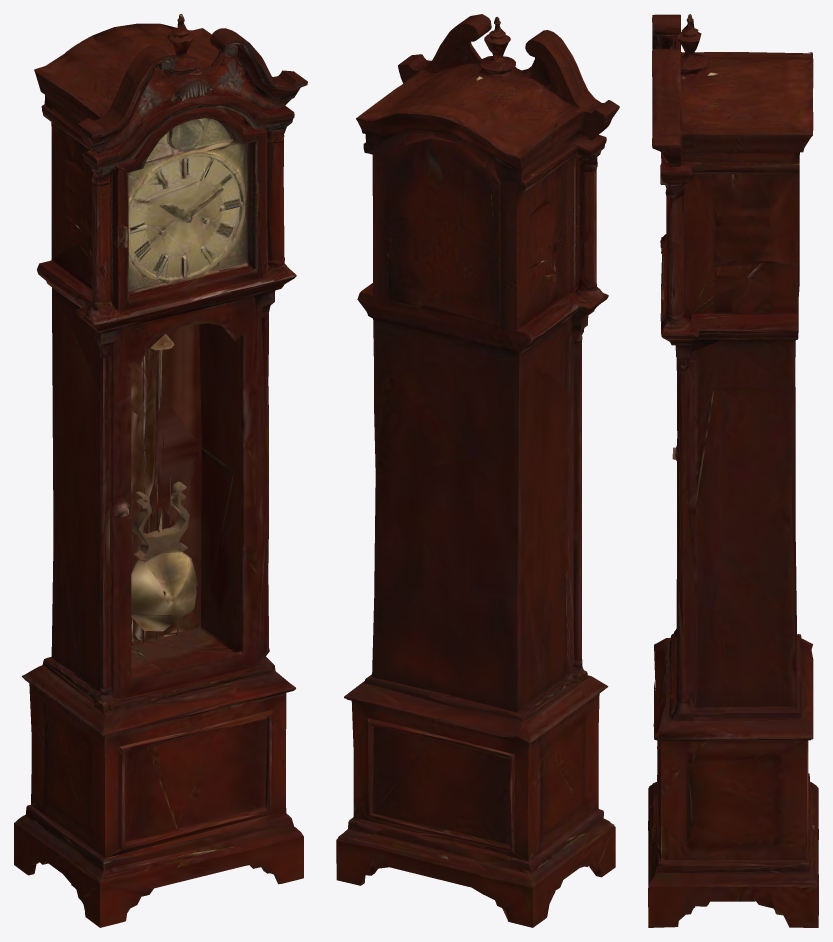
File: grandfather-clock.glb
The picture shows the model from 3 angles, left to right: view 1: azimuth 30°, elevation 25°; view 2: azimuth 150°, elevation 25°; view 3: azimuth 270°, elevation 25°; orthographic projection. The views are drawn at different scales.
Size of the model in its own units: 0.4934 by 1.91 by 0.3413.
Materials: 1 (1 with a texture image).
